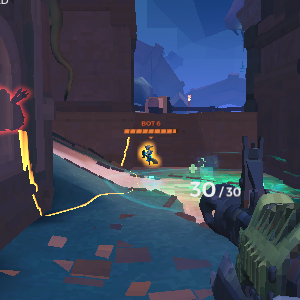model: (139, 144, 158, 169)
